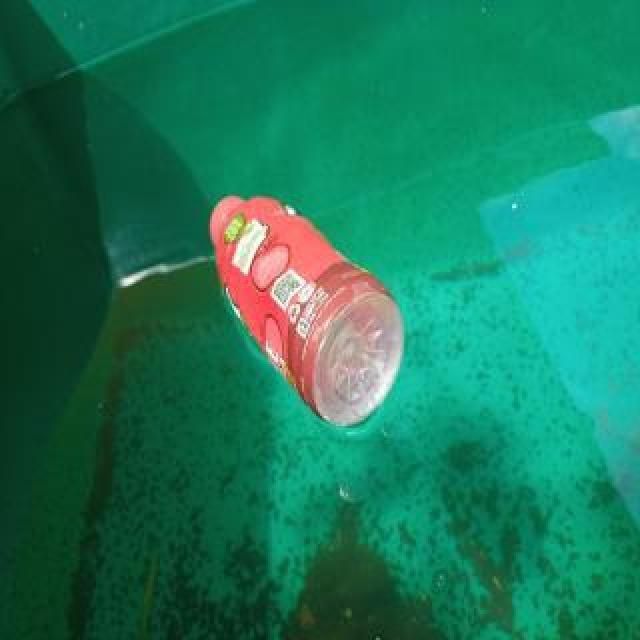bottle: (209, 192, 405, 430)
